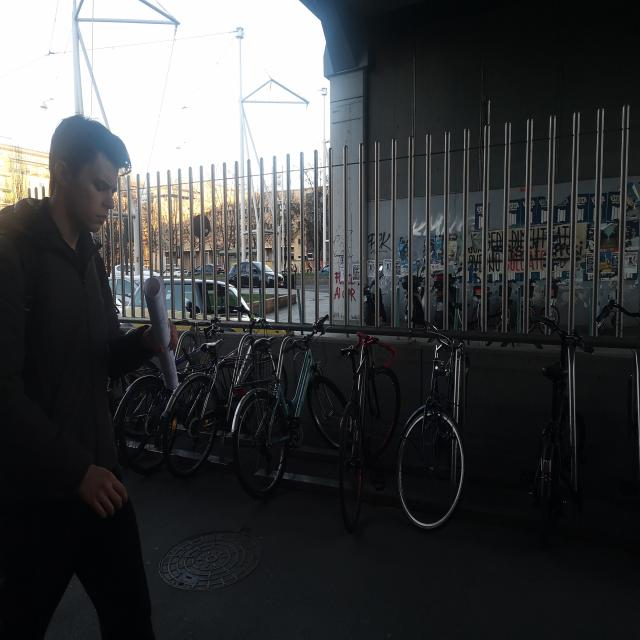Bicycle: (400, 313, 502, 547), (162, 308, 292, 491), (117, 298, 236, 466), (232, 332, 346, 498), (340, 320, 406, 526)
